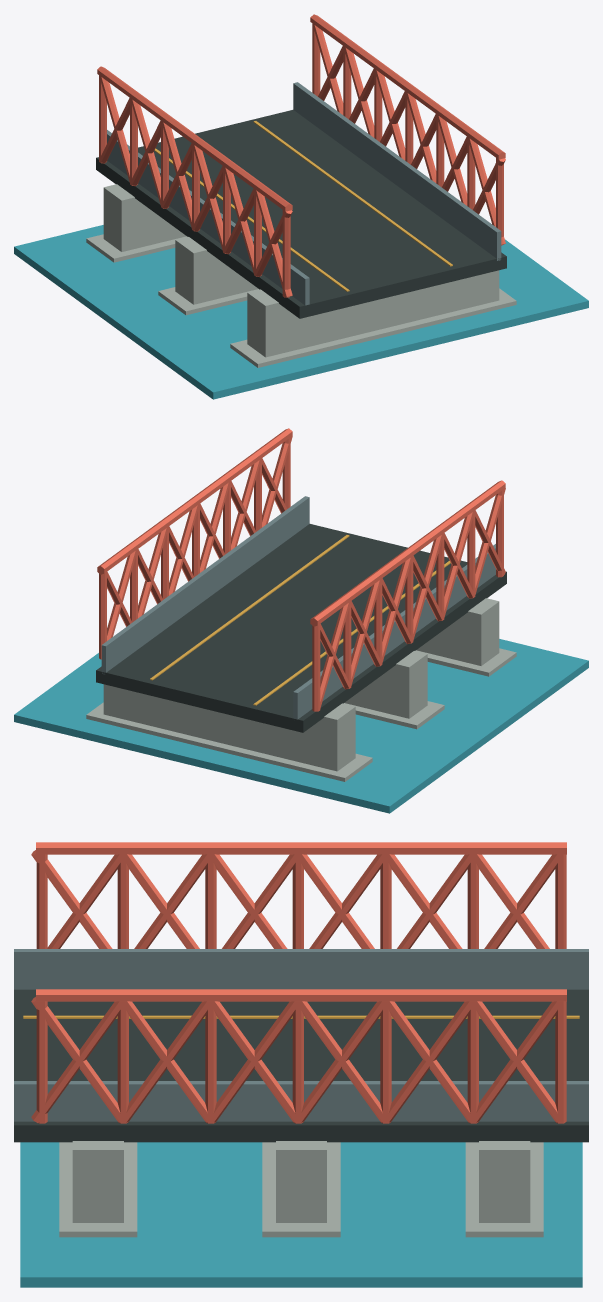
The model's file is bridge_lv2.glb.
3 views of the same model, one above another, from view 1: azimuth 30°, elevation 25°; view 2: azimuth 150°, elevation 25°; view 3: azimuth 270°, elevation 25° (orthographic). The views are drawn at different scales.
Parts seen in each view (by area): view 1: asphalt, water, coral, concrete, steel, gold; view 2: asphalt, water, coral, concrete, steel, gold; view 3: coral, water, asphalt, steel, concrete, gold.
Part boxes in pixels (x1,y1,x2,y2): asphalt: [96, 110, 506, 318]; water: [14, 225, 588, 399]; coral: [97, 14, 505, 297]; concrete: [86, 184, 516, 367]; steel: [107, 82, 501, 305]; gold: [154, 121, 452, 291]; asphalt: [96, 524, 506, 732]; water: [14, 639, 588, 813]; coral: [97, 428, 505, 711]; concrete: [86, 598, 516, 781]; steel: [101, 496, 495, 719]; gold: [150, 535, 450, 705]; coral: [31, 842, 566, 1123]; water: [20, 1142, 582, 1287]; asphalt: [14, 989, 588, 1142]; steel: [14, 949, 588, 1121]; concrete: [59, 1141, 543, 1237]; gold: [23, 1015, 579, 1018].
Size of the model in its own units: 9.8 by 4.28 by 9.2.
